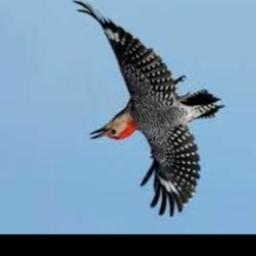Woodpecker: (71, 0, 225, 218)
